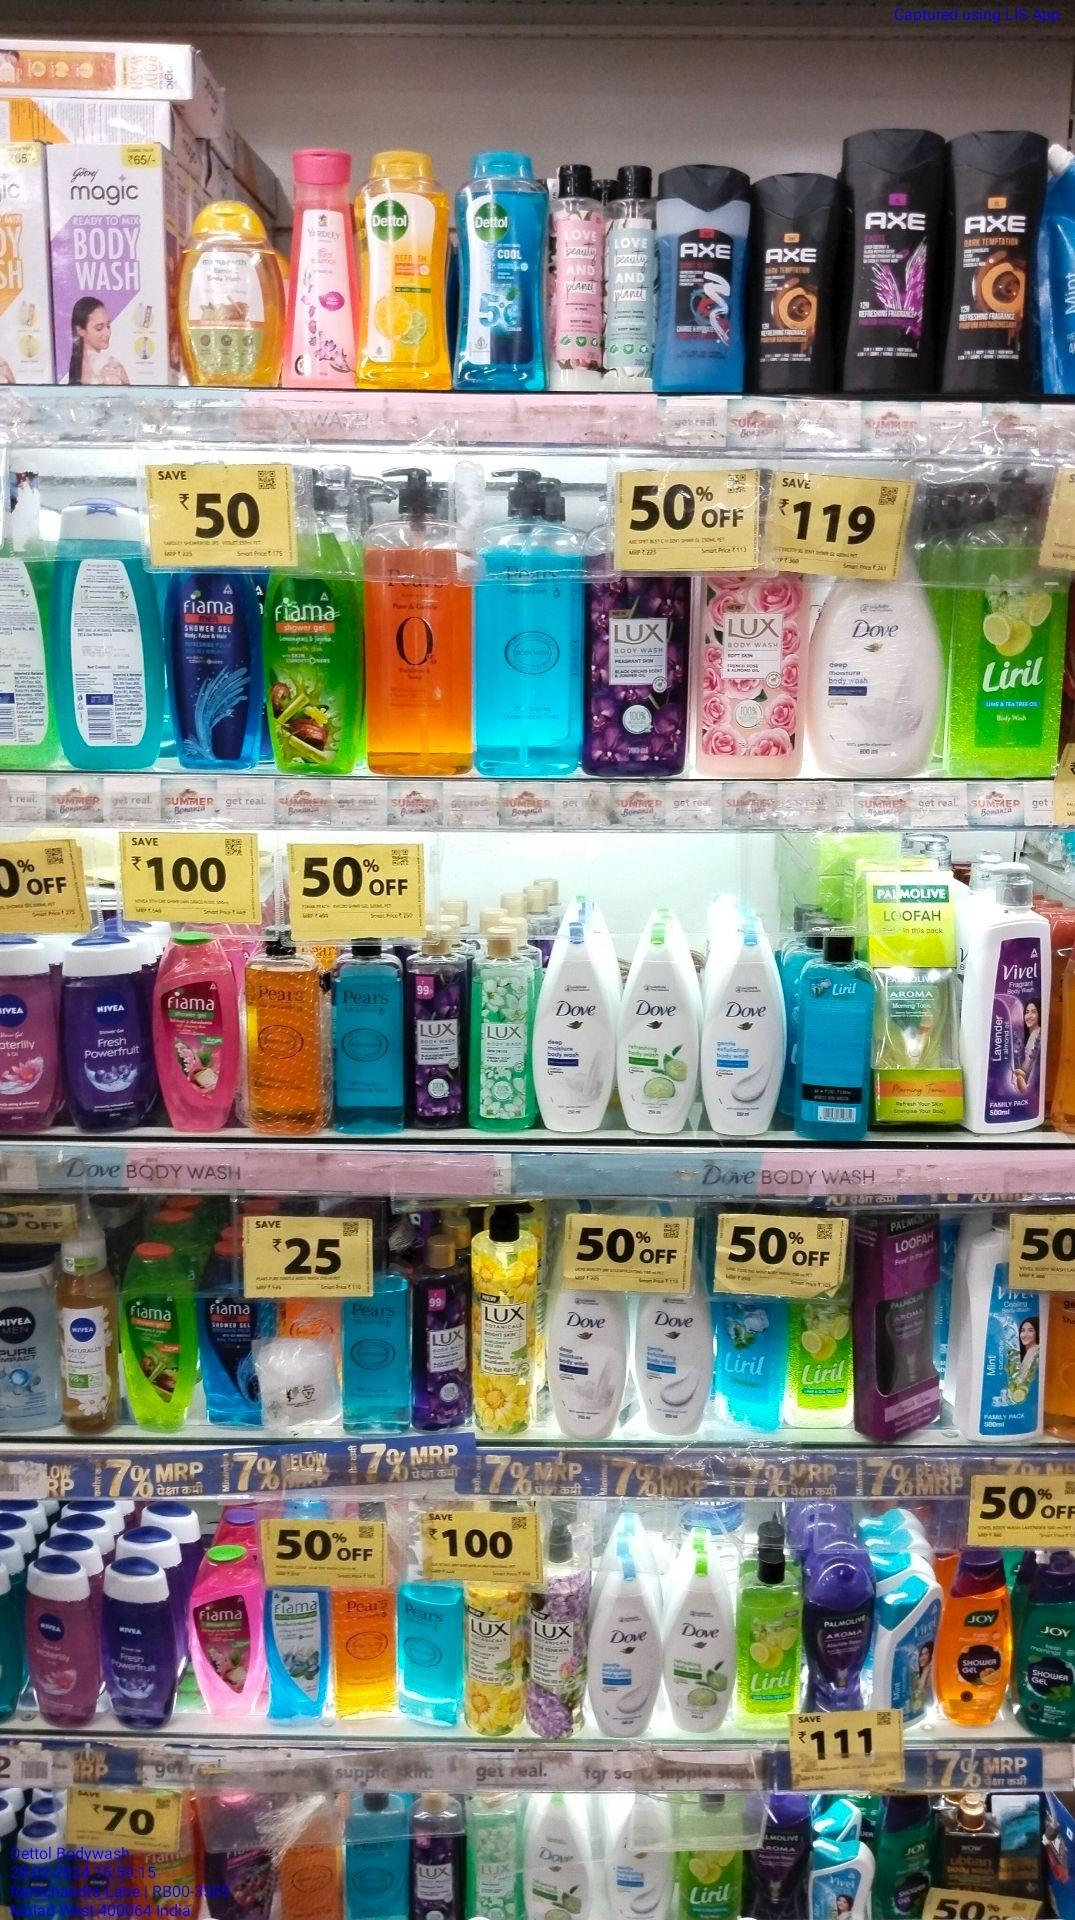Dettol_Bodywash_Cool: (460, 150, 542, 385)
Dettol_Bodywash_Refresh: (356, 148, 450, 393)
Dove_Deep_Moisture_Body_Wash_250ML: (539, 924, 615, 1131), (546, 1279, 620, 1435)
Dove_Gentle_Exfoliating_Body_Wash_250ML: (706, 923, 785, 1135), (587, 1557, 666, 1737), (638, 1286, 710, 1437), (616, 1793, 674, 1920)
Dove_Refreshing_Body_Wash_250ML: (625, 924, 698, 1137), (666, 1547, 732, 1739), (528, 1789, 599, 1920)
Fiama_Shower_Gel_Patchouli_and_Macadamia_250ML: (194, 1549, 266, 1720)
Fiama_Shower_Gel_Peach_and_Avocado_250ML: (150, 928, 236, 1137)
Joy_Shower_Gel_Mandarin_and_Lemongrass_250ML: (939, 1553, 1010, 1729)
Joy_Shower_Gel_Mint_and_Eucalyptus_250ML: (1016, 1567, 1075, 1742)
Liril_Lime_and_Tea_Tree_Oil_Body_Wash_250ML: (741, 1549, 799, 1721), (681, 1792, 745, 1920)
Lux_Black_Orchid_Scent_and_Juniper_Oil_Body_Wash_245ML: (405, 934, 470, 1133), (417, 1242, 472, 1432), (412, 1785, 466, 1920)
Lux_Body_Wash_Skin_Detox_Freesia_Scent_and_Alove_Vera_245ML: (475, 926, 536, 1131), (467, 1796, 522, 1920)
Nivea_Shower_Gel_Fresh_Powerfruit_250ML: (103, 1565, 177, 1733)
Palmolive_Aroma_Relax_250ML: (807, 1564, 882, 1714)
Pears_Pure_Glycerin_and_Mint_Extracts_Body_Wash_250ML: (330, 940, 400, 1139), (340, 1250, 409, 1443), (348, 1793, 409, 1919)
